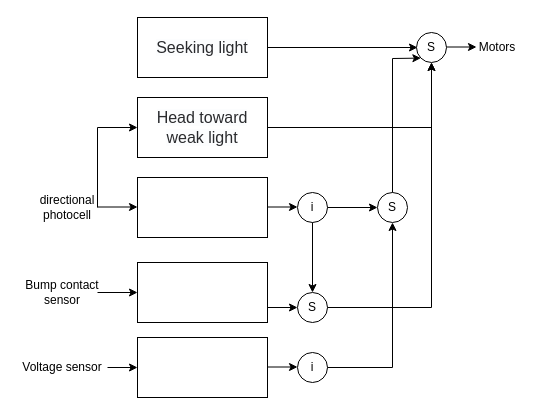
Image size: 544x415. Some labels were removed from this diagram. The shapes that lost their labels are listed below. From the top down, each one's centre as x and y in pixels, then its label:
At point 202,207: "Back away from bright light".
At point 202,292: "Turn and push".
At point 202,367: "Recharge battery".
